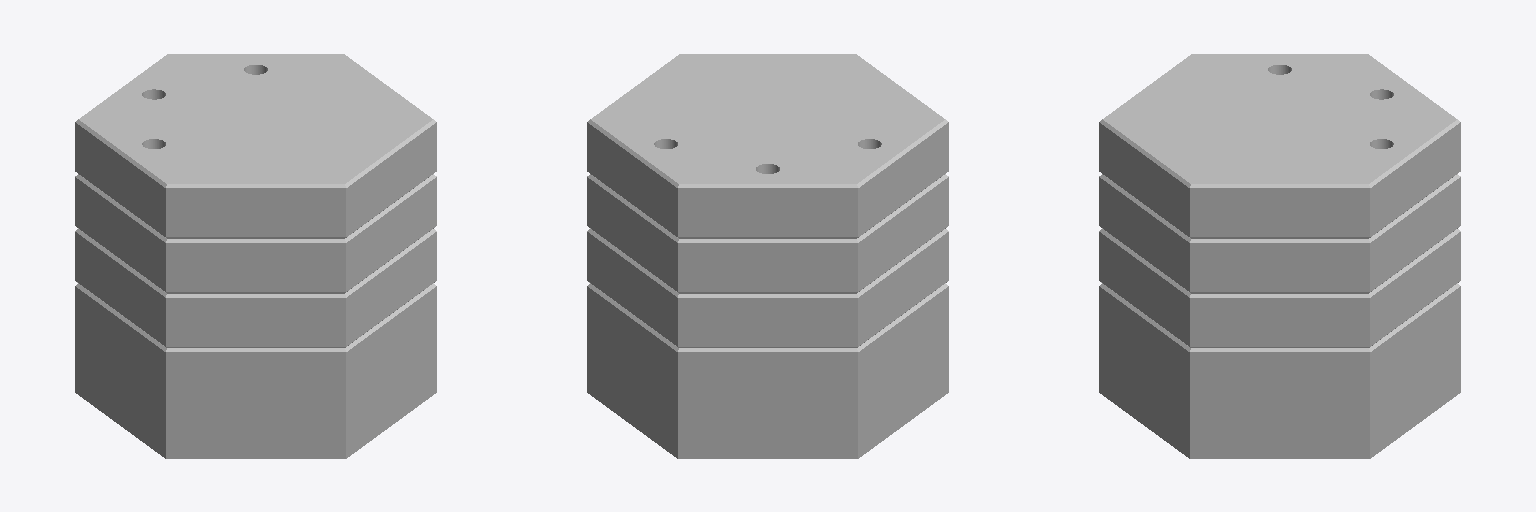
Rendered from lvl4A.obj.
3 renders of one model, left to right at view 1: azimuth 30°, elevation 25°; view 2: azimuth 150°, elevation 25°; view 3: azimuth 270°, elevation 25°, orthographic.
Visible parts, largest first — view 1: Lvl4A-3_(Mono-NoMags); view 2: Lvl4A-3_(Mono-NoMags); view 3: Lvl4A-3_(Mono-NoMags).
Boxes of the visible parts, <box> form: Lvl4A-3_(Mono-NoMags): <box>75,54,436,458</box>; Lvl4A-3_(Mono-NoMags): <box>587,54,948,458</box>; Lvl4A-3_(Mono-NoMags): <box>1099,54,1460,458</box>.
Bounding box in the file's own units: 3.13 × 3.02 × 3.62.